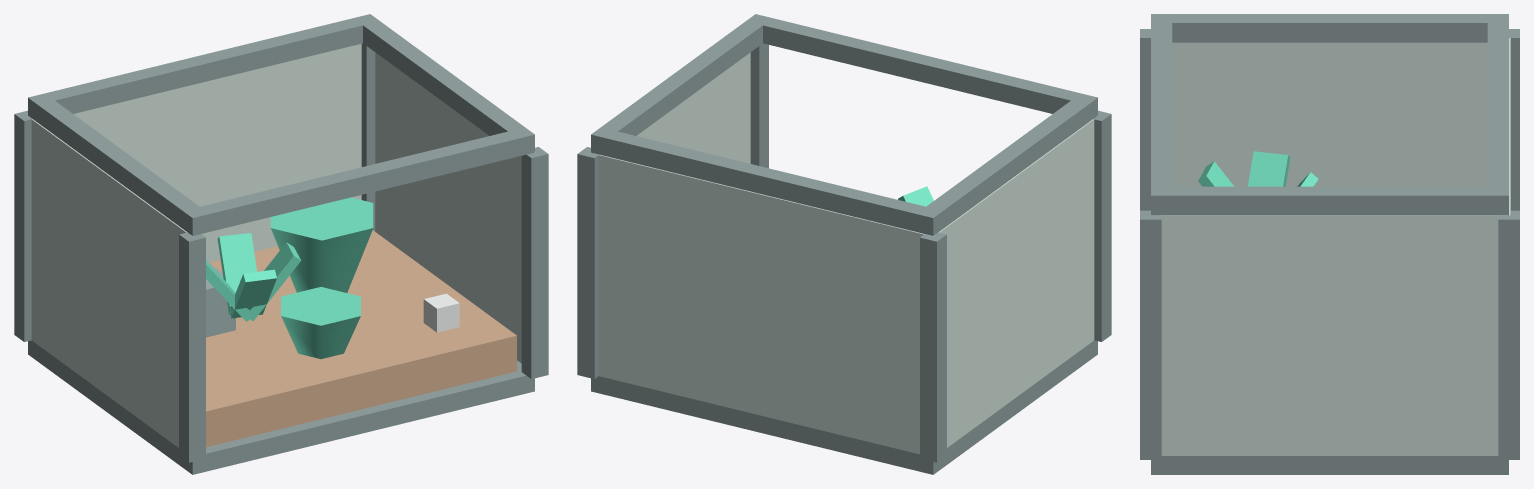
File: terrarium.glb
The picture shows the model from 3 angles, left to right: view 1: azimuth 30°, elevation 25°; view 2: azimuth 150°, elevation 25°; view 3: azimuth 270°, elevation 25°; orthographic projection. The views are drawn at different scales.
Visible parts, largest first — view 1: terrarium; view 2: terrarium; view 3: terrarium.
Part boxes in pixels (bbox=[...]): terrarium: bbox=[14, 14, 548, 474]; terrarium: bbox=[577, 14, 1111, 474]; terrarium: bbox=[1140, 14, 1519, 474].
Bounding box in the file's own units: 0.315 × 0.215 × 0.265.
